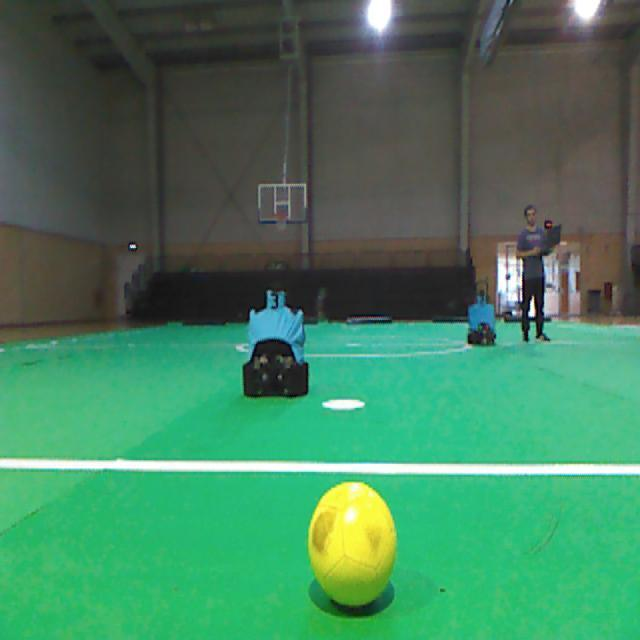ball: (308, 481, 395, 604)
